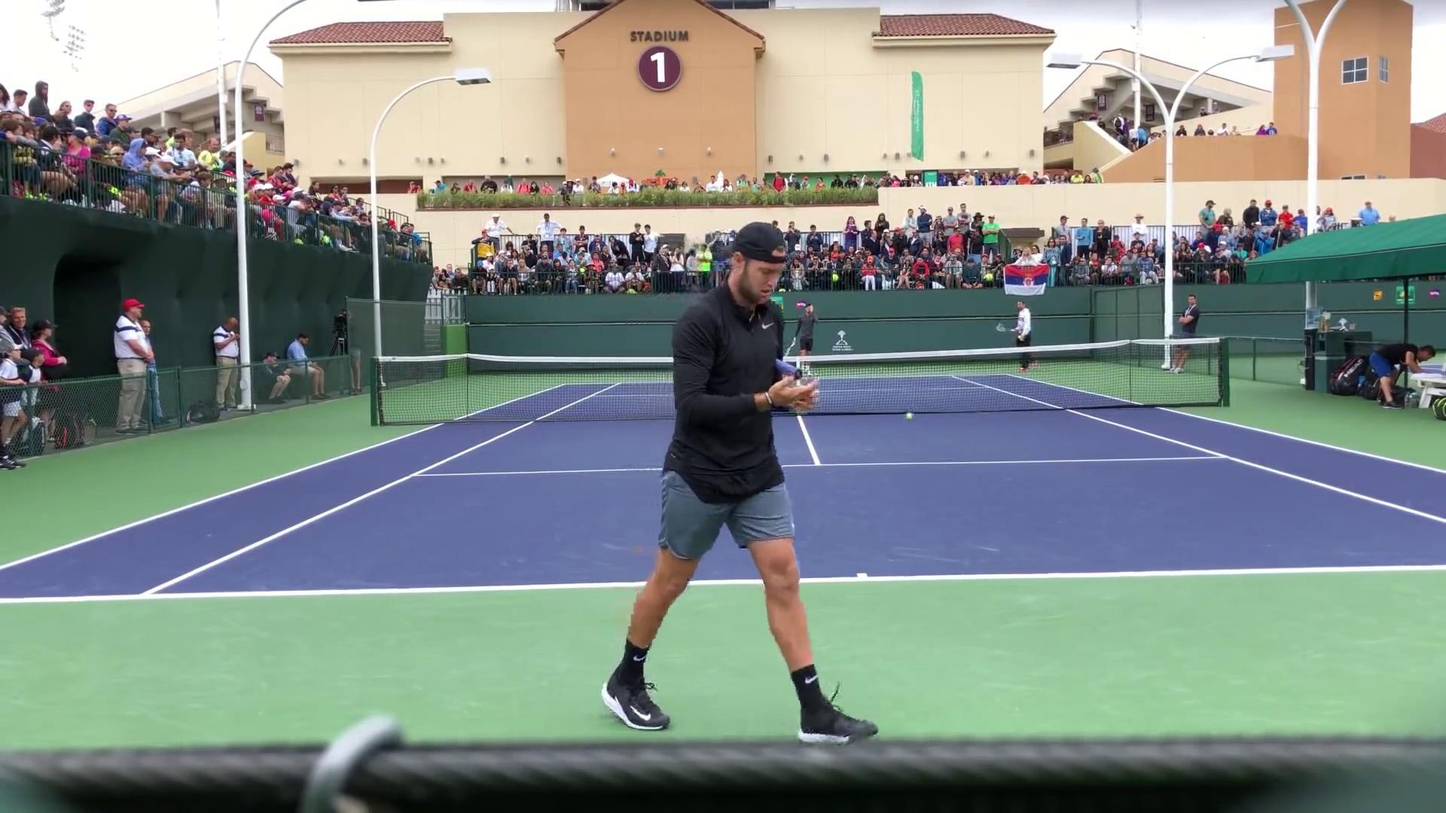ball: (904, 407, 918, 423)
